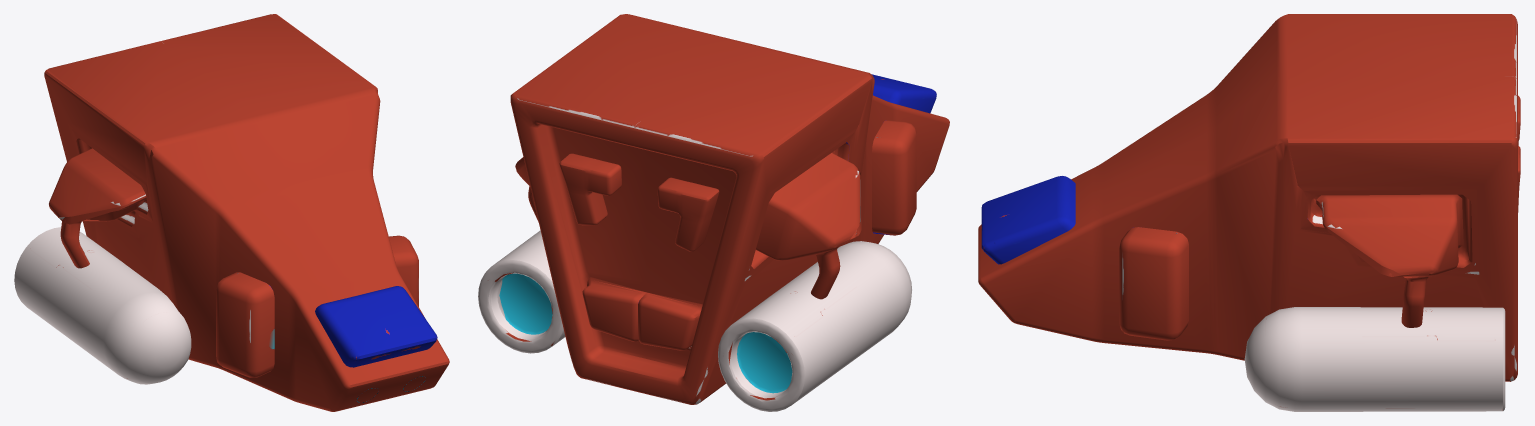
File: nuShip.obj
3 renders of one model, left to right at view 1: azimuth 30°, elevation 25°; view 2: azimuth 150°, elevation 25°; view 3: azimuth 270°, elevation 25°, orthographic. The views are drawn at different scales.
Parts seen in each view (by area): view 1: Cube; view 2: Cube; view 3: Cube.
Boxes of the visible parts, box(x1,y1,x2,y2) form: Cube: box(14, 14, 449, 411); Cube: box(478, 14, 949, 411); Cube: box(978, 14, 1520, 411).
Size of the model in its own units: 1.46 by 1.13 by 2.01.
1 material, 1 textured.
